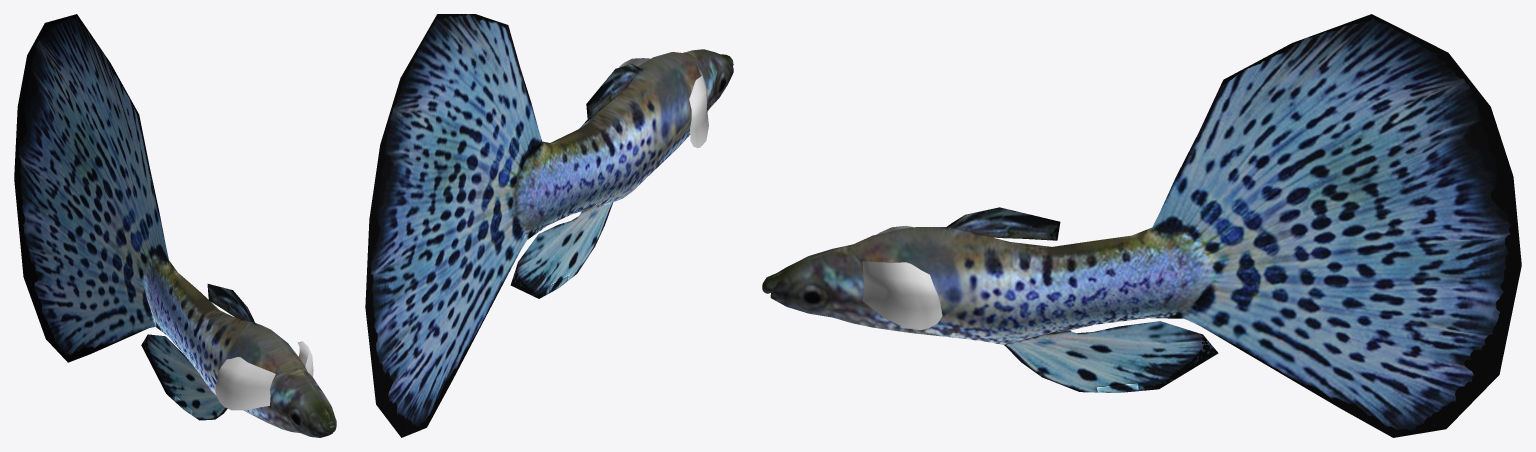
File: fish_guppy.fbx
The picture shows the model from 3 angles, left to right: view 1: azimuth 30°, elevation 25°; view 2: azimuth 150°, elevation 25°; view 3: azimuth 270°, elevation 25°; orthographic projection. The views are drawn at different scales.
Parts seen in each view (by area): view 1: fish_guppy; view 2: fish_guppy; view 3: fish_guppy.
Boxes of the visible parts, x1=… form: fish_guppy: x1=14, y1=14, x2=336, y2=437; fish_guppy: x1=365, y1=14, x2=733, y2=437; fish_guppy: x1=762, y1=14, x2=1521, y2=437.
Size of the model in its own units: 0.1428 by 0.5726 by 0.9298.
